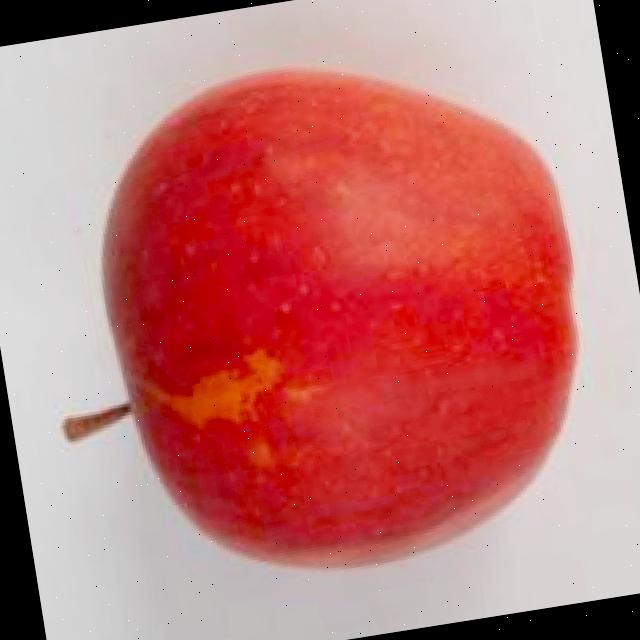apple: (0, 1, 640, 635)
